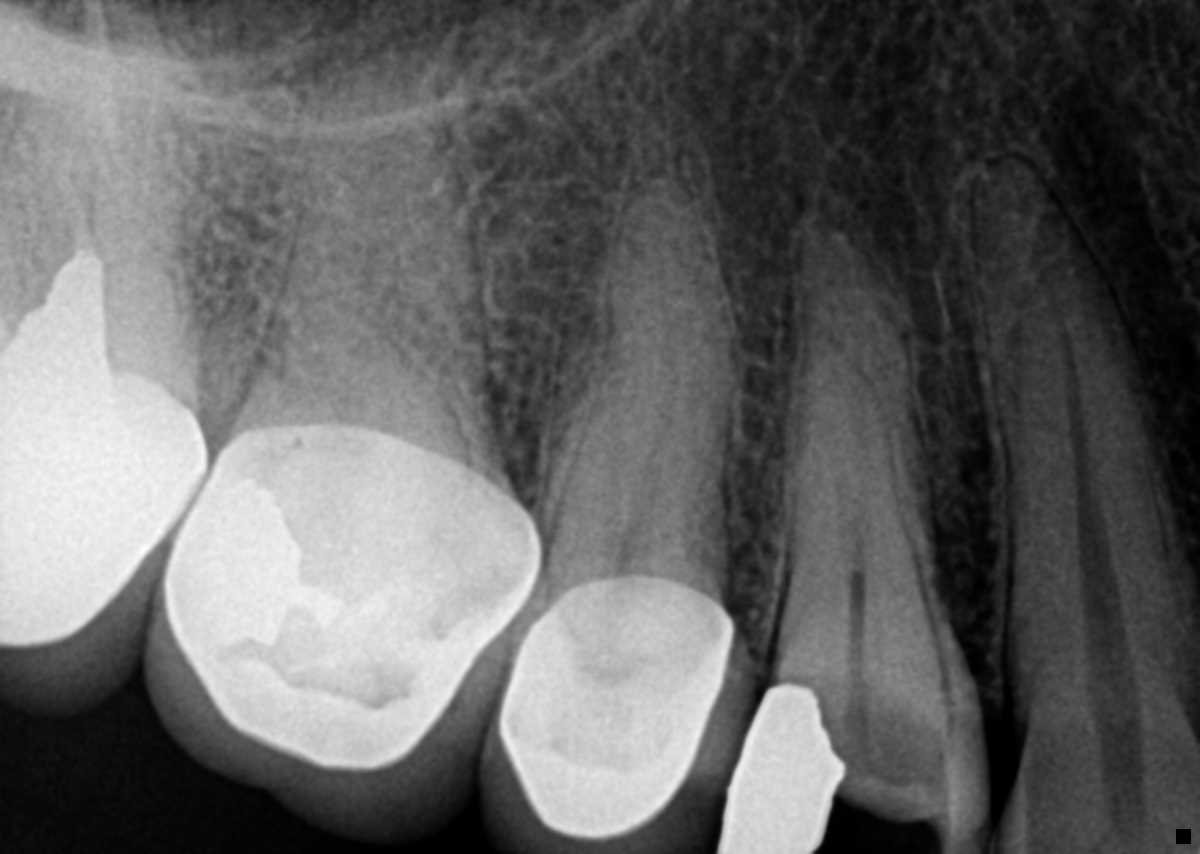Main Canal: (1046, 290, 1135, 701), (614, 292, 679, 582), (847, 571, 870, 689)
Main Root: (966, 158, 1200, 704), (776, 216, 974, 707), (538, 179, 735, 600), (772, 324, 956, 724), (0, 0, 191, 385)
Mesial Root: (281, 296, 471, 475)
Palatal Root: (222, 41, 507, 502)
decay: (825, 689, 953, 804)
